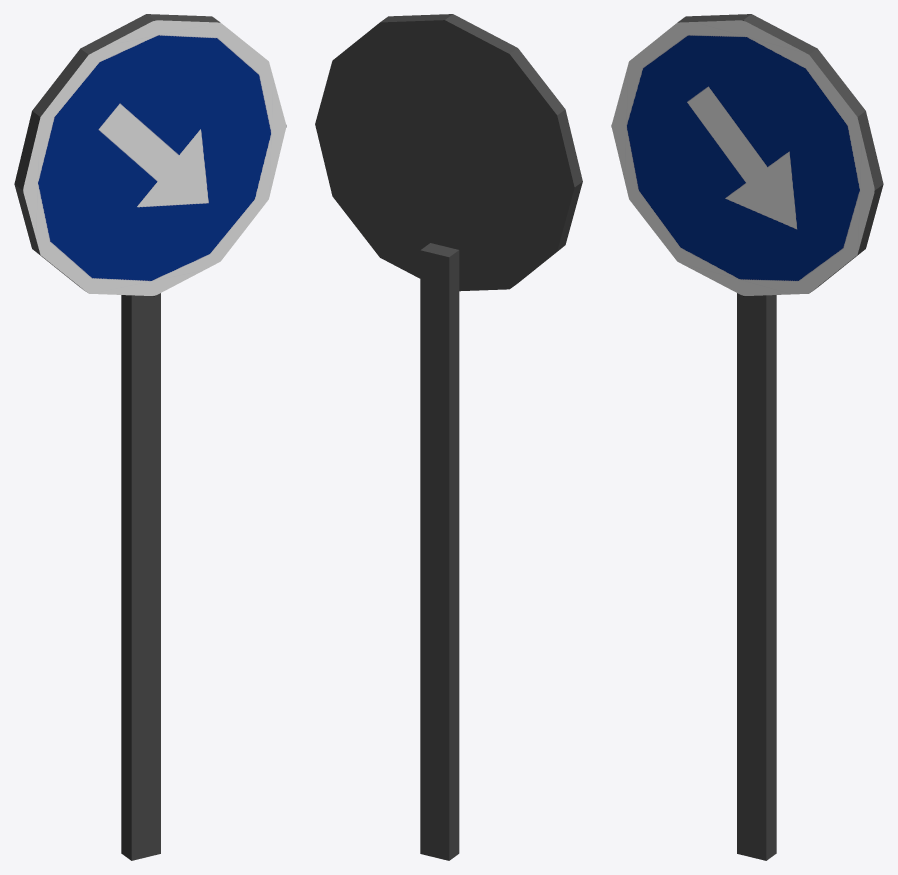
The model's file is right_lane.glb.
3 renders of one model, left to right at view 1: azimuth 30°, elevation 25°; view 2: azimuth 150°, elevation 25°; view 3: azimuth 330°, elevation 25°, orthographic.
Visible parts, largest first — view 1: Circle, Plane; view 2: Circle, Plane; view 3: Circle, Plane.
Boxes of the visible parts, x1,y1,x2,y2 form: Circle: [14, 14, 286, 296]; Plane: [121, 293, 160, 860]; Circle: [315, 14, 582, 291]; Plane: [420, 243, 459, 860]; Circle: [611, 14, 883, 296]; Plane: [737, 293, 776, 860].
Size of what is drawn, in the model's own units: 0.9 by 2.75 by 0.11.
3 materials, 1 textured.
